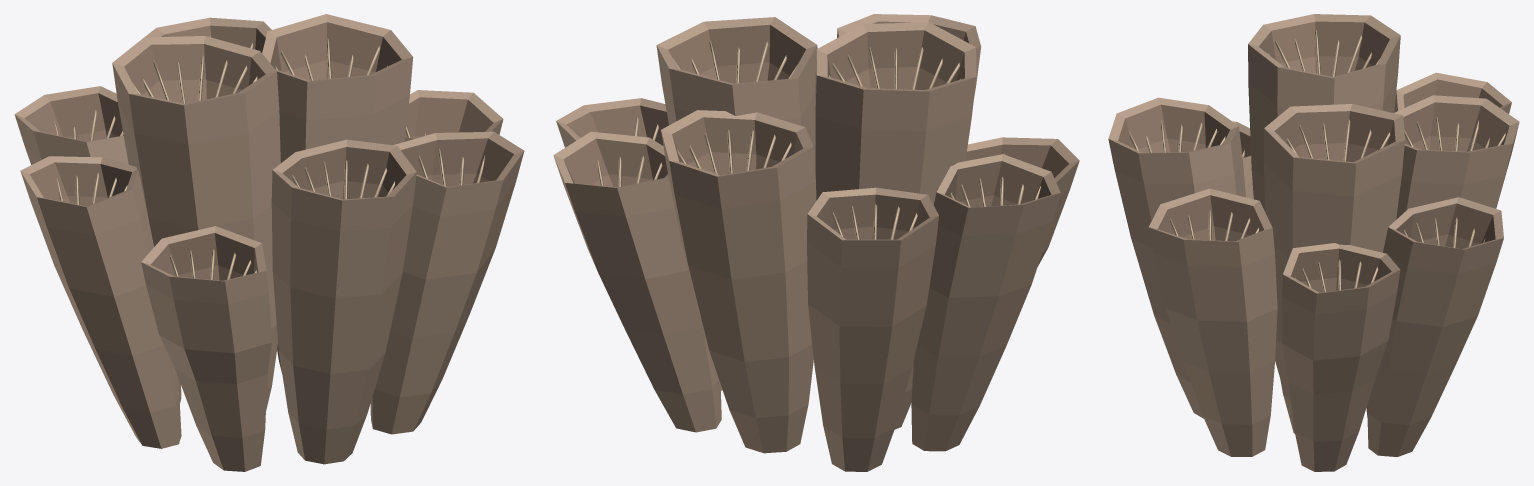
File: acrocyathus.glb
3 views of the same model, side by side, from view 1: azimuth 30°, elevation 25°; view 2: azimuth 150°, elevation 25°; view 3: azimuth 270°, elevation 25° (orthographic). The views are drawn at different scales.
Parts seen in each view (by area): view 1: elongated-polygonal-corallites-with-real-calyces, radial-calyx-septal-blades; view 2: elongated-polygonal-corallites-with-real-calyces, radial-calyx-septal-blades; view 3: elongated-polygonal-corallites-with-real-calyces, radial-calyx-septal-blades.
Boxes of the visible parts, x1,y1,x2,y2 form: elongated-polygonal-corallites-with-real-calyces: (14, 14, 524, 471); radial-calyx-septal-blades: (54, 36, 484, 279); elongated-polygonal-corallites-with-real-calyces: (553, 14, 1079, 471); radial-calyx-septal-blades: (597, 40, 1040, 239); elongated-polygonal-corallites-with-real-calyces: (1108, 14, 1519, 471); radial-calyx-septal-blades: (1128, 30, 1505, 292).
Size of the model in its own units: 0.18 by 0.1352 by 0.1493.
